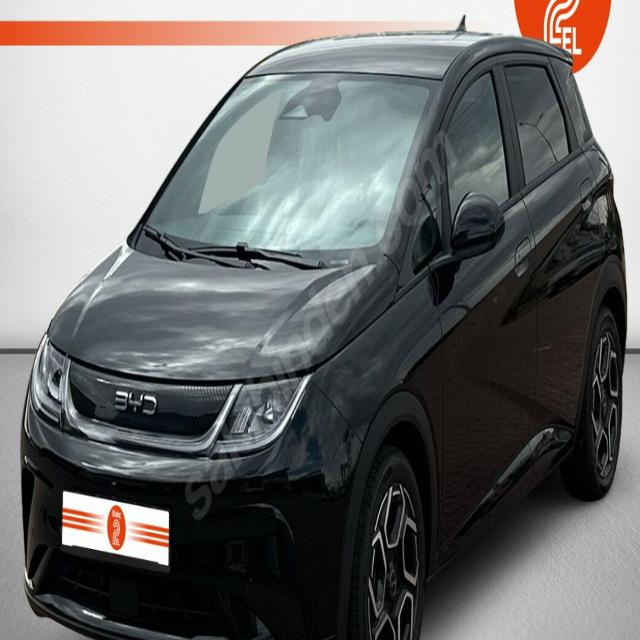byd: (112, 374, 159, 429)
